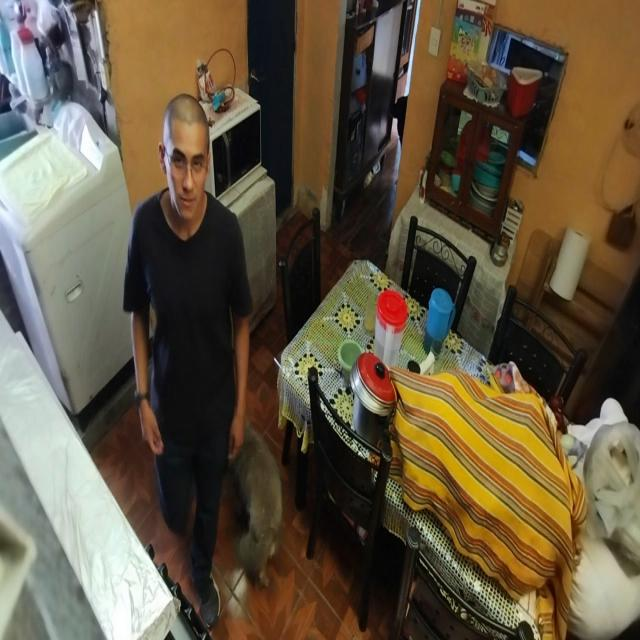adult: (124, 89, 251, 629)
